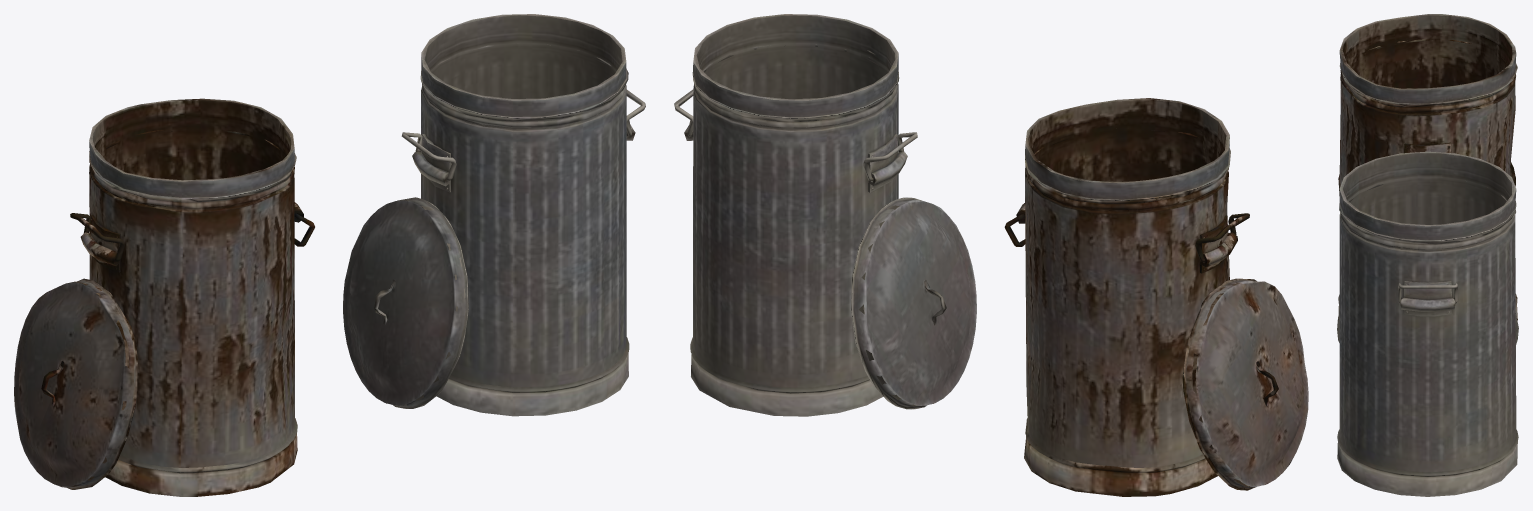
Rendered from metal_trash_can.glb.
3 renders of one model, left to right at view 1: azimuth 30°, elevation 25°; view 2: azimuth 150°, elevation 25°; view 3: azimuth 270°, elevation 25°, orthographic. The views are drawn at different scales.
Parts seen in each view (by area): view 1: metal_trash_can, metal_trash_can_rust, metal_trash_can_lid, metal_trash_can_rust_lid; view 2: metal_trash_can, metal_trash_can_rust, metal_trash_can_lid, metal_trash_can_rust_lid; view 3: metal_trash_can, metal_trash_can_rust, metal_trash_can_handle_right.
Boxes of the visible parts, box(x1,y1,x2,y2) form: metal_trash_can: box(412, 14, 635, 416); metal_trash_can_rust: box(80, 98, 303, 496); metal_trash_can_lid: box(343, 197, 468, 408); metal_trash_can_rust_lid: box(14, 278, 137, 489); metal_trash_can: box(684, 14, 907, 416); metal_trash_can_rust: box(1016, 98, 1237, 496); metal_trash_can_lid: box(850, 197, 976, 409); metal_trash_can_rust_lid: box(1182, 278, 1308, 490); metal_trash_can: box(1337, 151, 1518, 496); metal_trash_can_rust: box(1338, 14, 1517, 320); metal_trash_can_handle_right: box(1398, 283, 1457, 303).
Bounding box in the file's own units: 1.78 × 0.9062 × 0.5539.
Materials: 3 (3 with a texture image).
